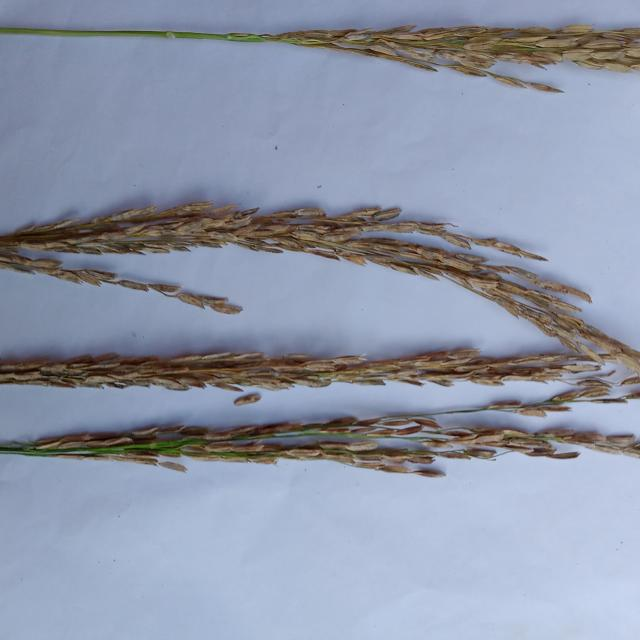Neck_Blast: (0, 206, 592, 343), (22, 416, 639, 472), (3, 354, 585, 391), (269, 26, 637, 73)
